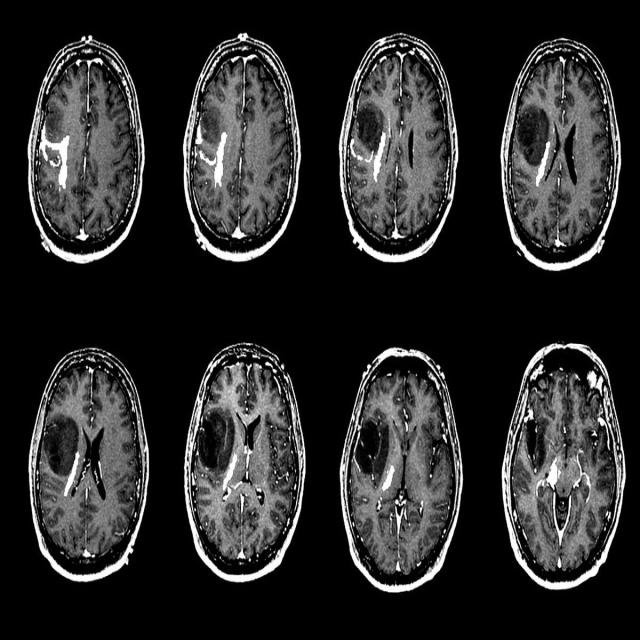Tumor: (197, 115, 228, 186), (42, 121, 69, 189), (350, 131, 386, 179), (221, 452, 240, 501), (61, 452, 79, 495), (535, 141, 550, 185), (546, 459, 566, 491), (383, 465, 398, 493)
